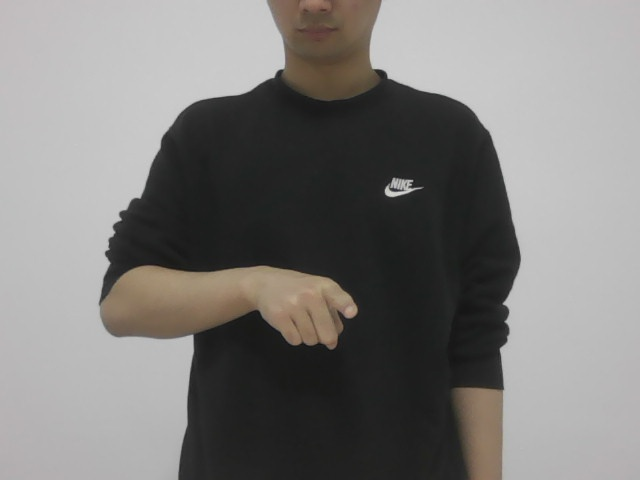you/your/this: (244, 254, 364, 363)
